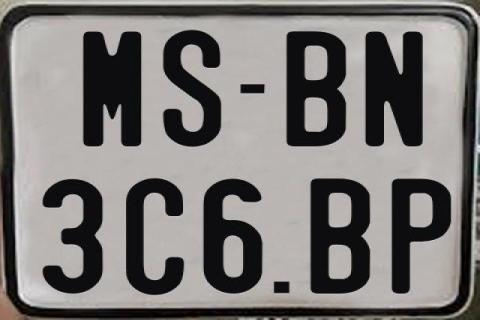0: (202, 177, 268, 295), (41, 179, 101, 297)
B: (308, 178, 374, 298), (286, 29, 347, 149)
C: (125, 177, 188, 293)
M: (83, 31, 141, 149)
N: (365, 30, 426, 148)
P: (392, 178, 453, 296)
S: (163, 27, 222, 145)
